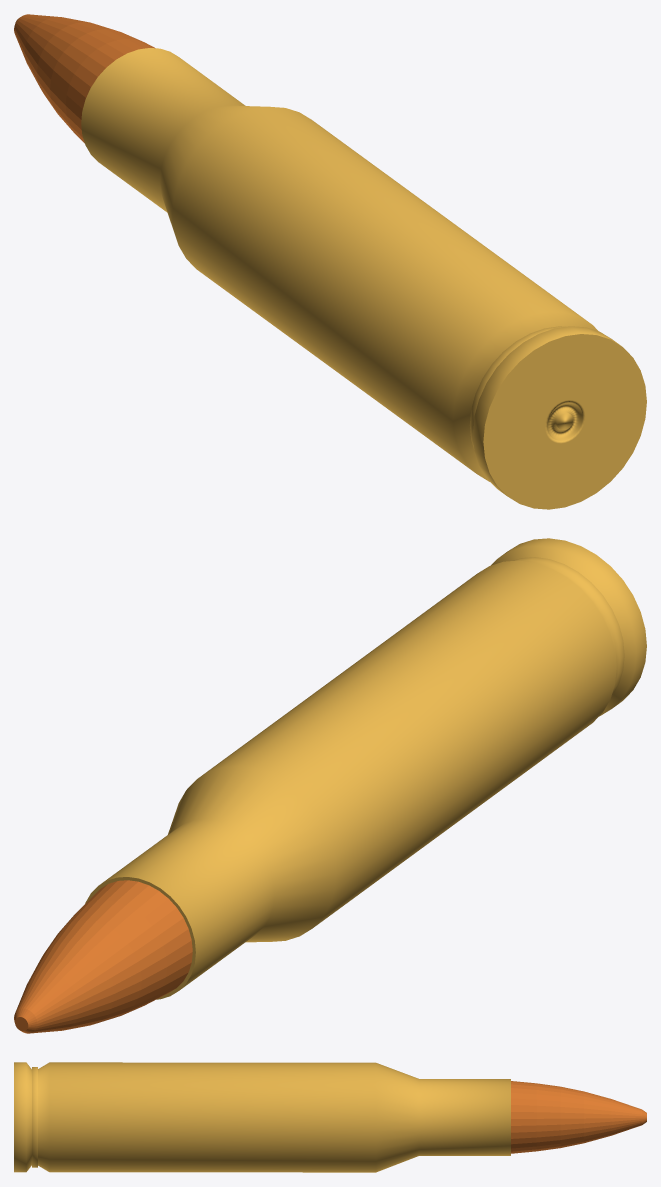
The model's file is bullet.glb.
3 views of the same model, one above another, from view 1: azimuth 30°, elevation 25°; view 2: azimuth 150°, elevation 25°; view 3: azimuth 270°, elevation 25° (orthographic). The views are drawn at different scales.
Visible parts, largest first — view 1: Casing, Bullet; view 2: Casing, Bullet; view 3: Casing, Bullet.
Boxes of the visible parts, box(x1,y1,x2,y2) form: Casing: box(81, 48, 646, 509); Bullet: box(14, 14, 155, 143); Casing: box(85, 538, 646, 999); Bullet: box(14, 880, 192, 1033); Casing: box(14, 1062, 510, 1172); Bullet: box(511, 1081, 646, 1153).
Bounding box in the file's own units: 0.8397 × 0.8414 × 4.83.
